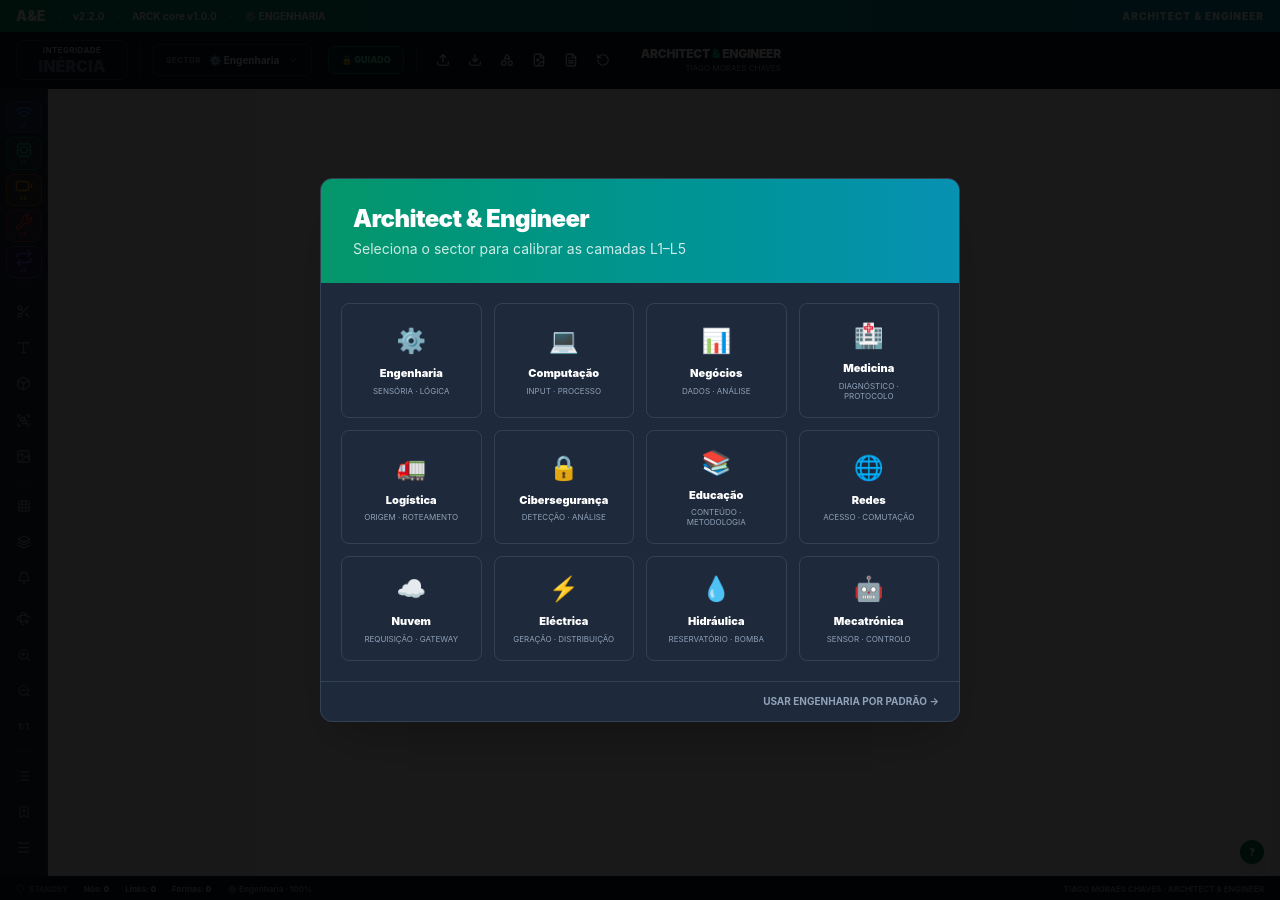
Test case: Canvas — modo de corte pelo teclado › a tecla C activa o modo de corte (aparece a dica)
Click the button "USAR ENGENHARIA POR PADRÃO →": click(851, 701) [763, 694, 939, 709]
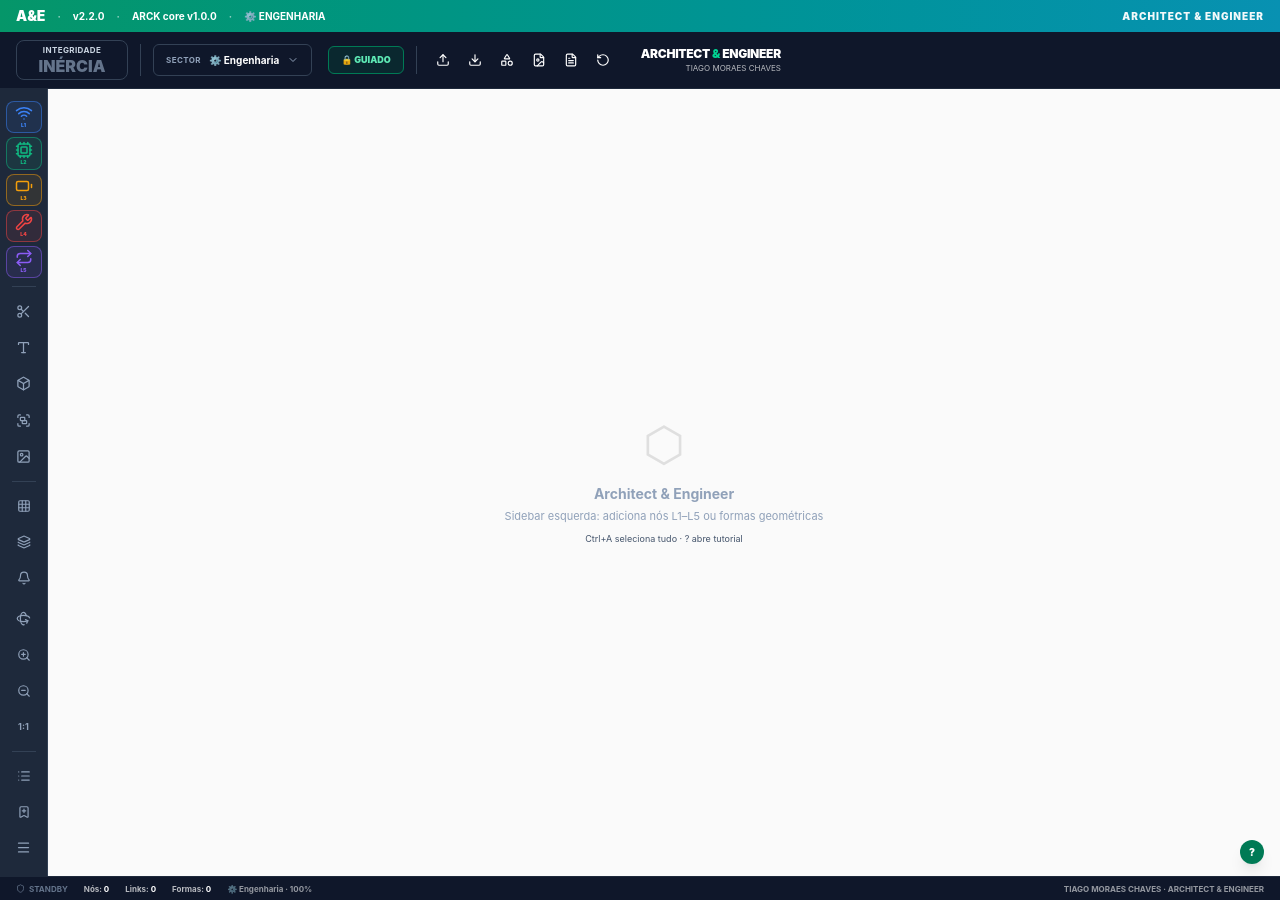
Press c
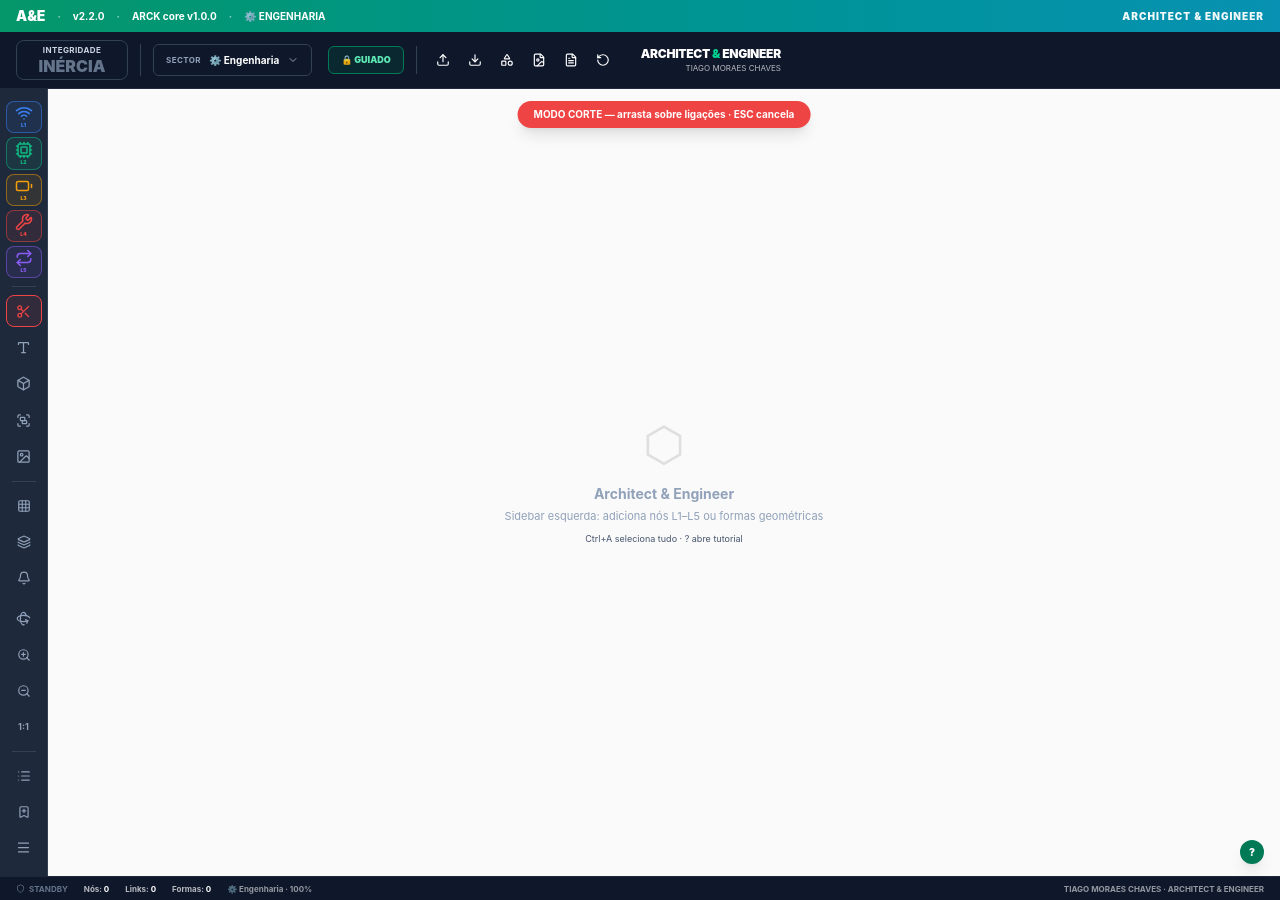
Expected: the text "MODO CORTE — arrasta sobre ligações · ESC cancela" is shown, [518, 101, 810, 128]
